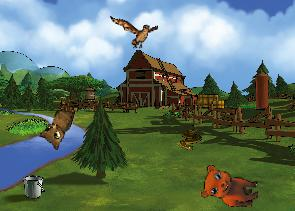bear: (200, 164, 260, 207)
eagle: (110, 11, 160, 51)
owl: (36, 98, 76, 151)
